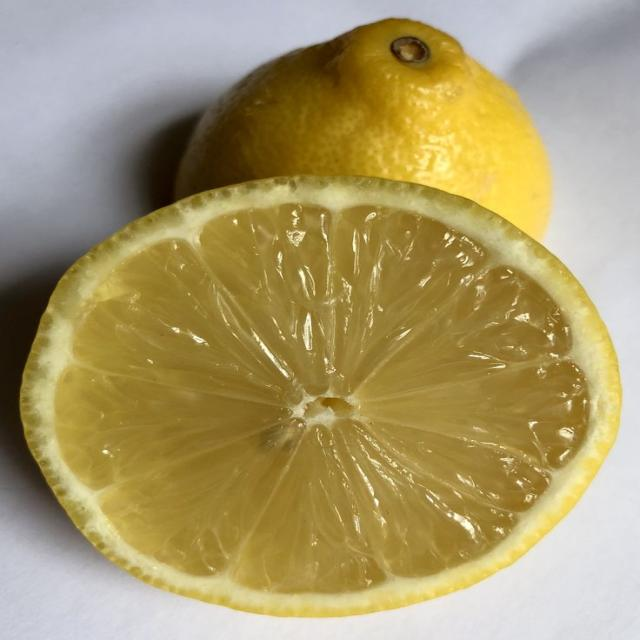lemon: (22, 178, 619, 615), (178, 19, 550, 237)
